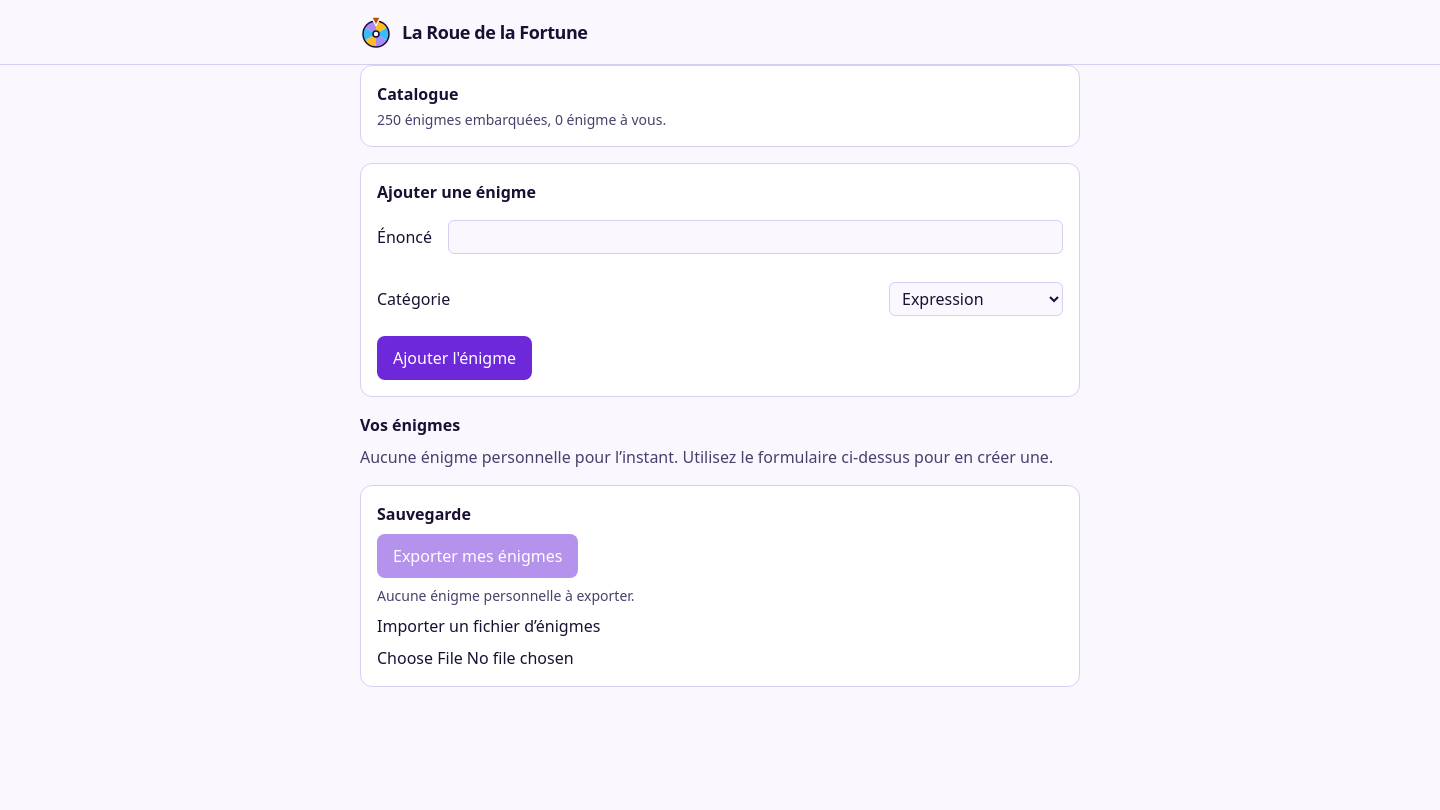
Test: PuzzleEditorRoute › supprime une énigme, confirmation comprise
The width and height of the screenshot is (1440, 810).
Type "MAISON DE CAMPAGNE" into the field labelled "Énoncé".
click(756, 237); type("MAISON DE CAMPAGNE")  # box [448,220,1063,254]
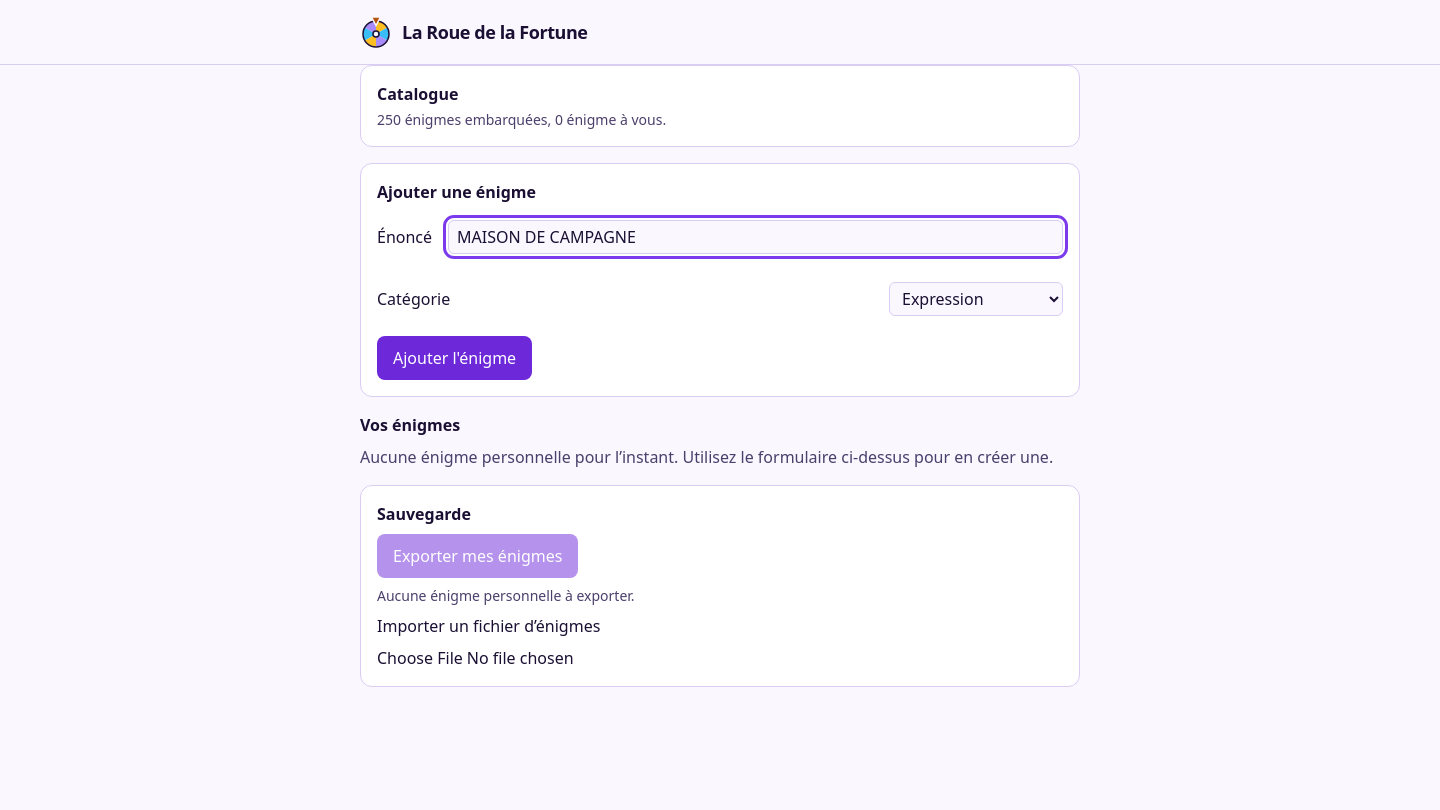
Click the button "Ajouter l'énigme".
click(455, 358)  # box [377,336,532,380]
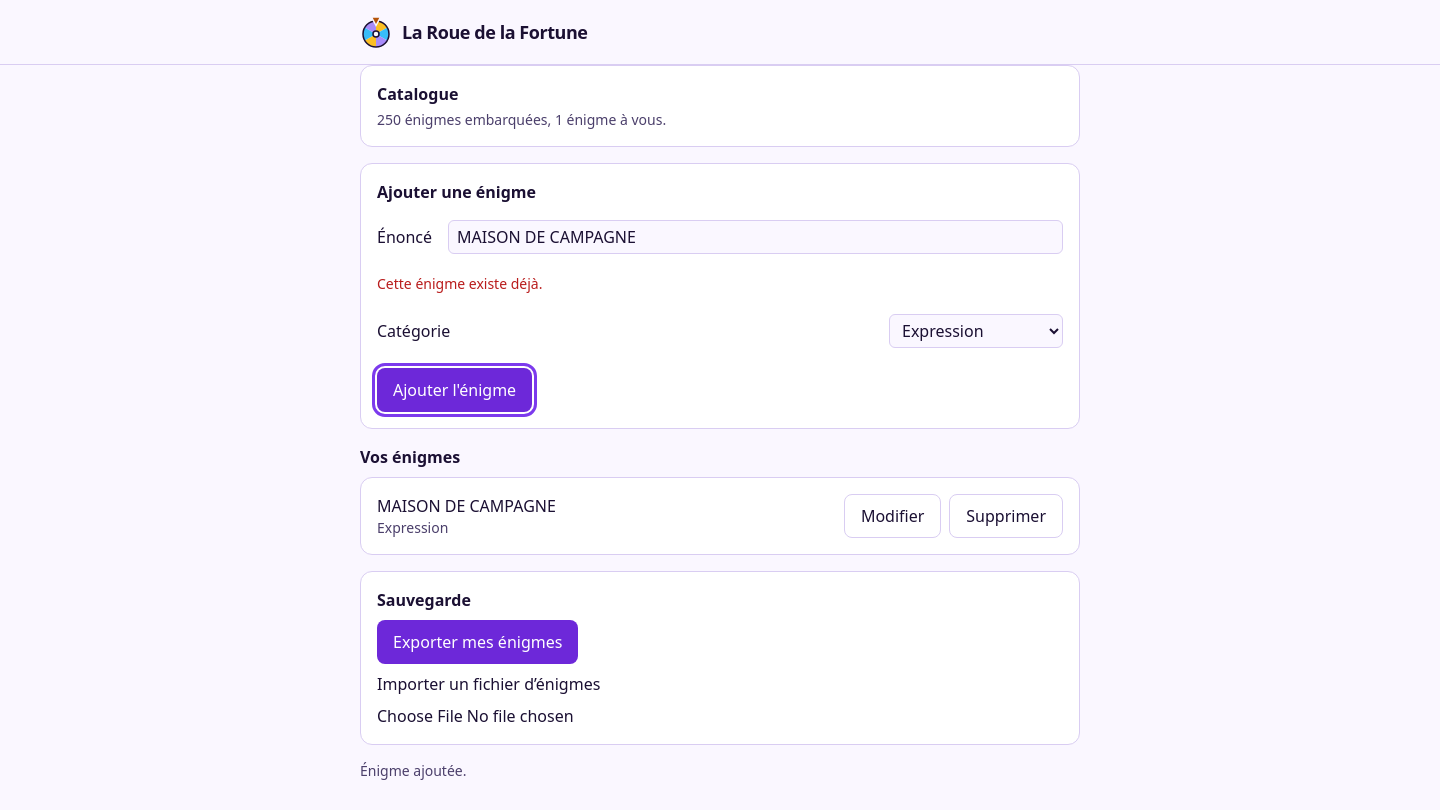
Click the button with aria-label "Supprimer MAISON DE CAMPAGNE".
click(1006, 516)  # box [949,494,1063,538]
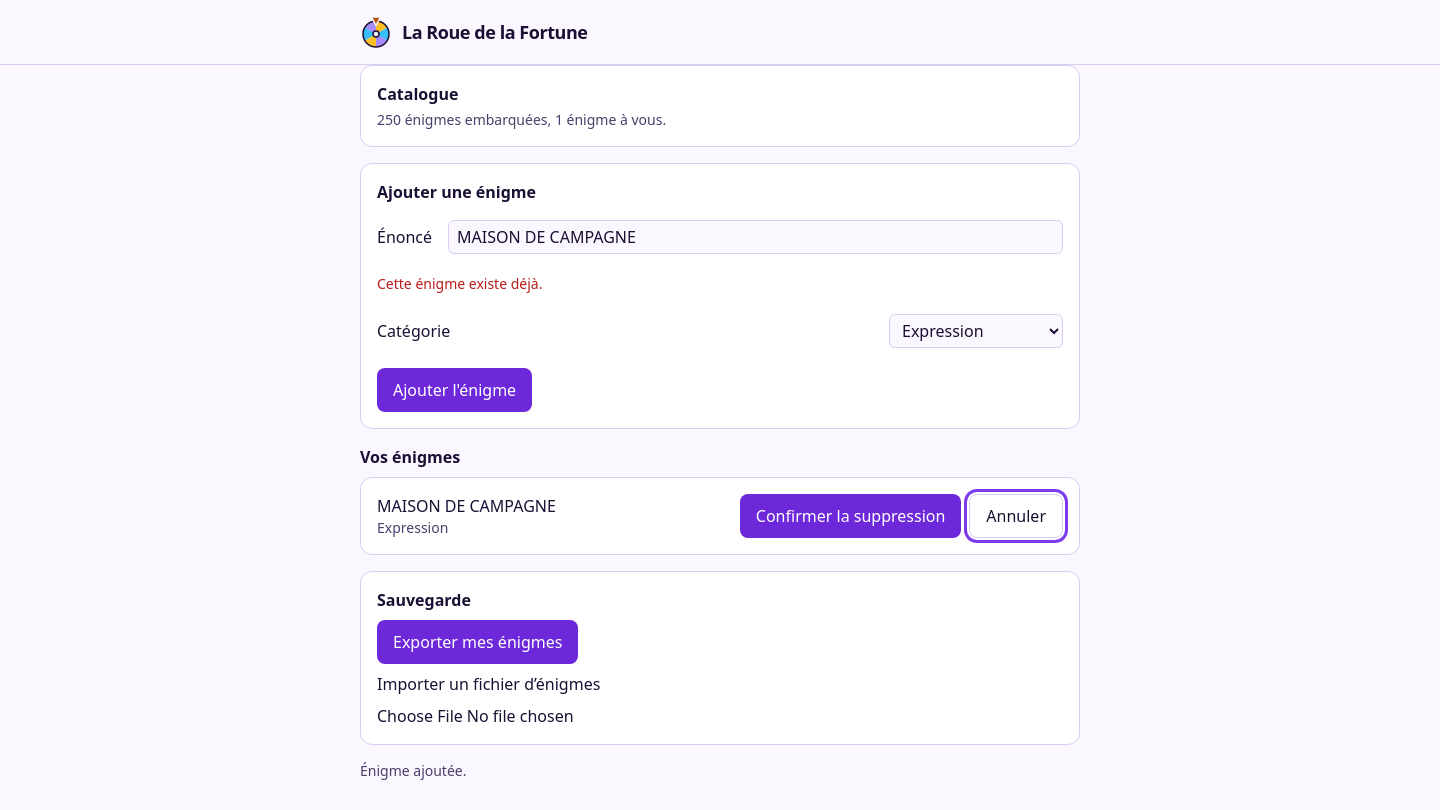
Expected: the text "MAISON DE CAMPAGNE" is shown, [377,494,556,518]
Click the button with aria-label "Confirmer la suppression de MAISON DE CAMPAGNE".
click(851, 516)  # box [740,494,961,538]
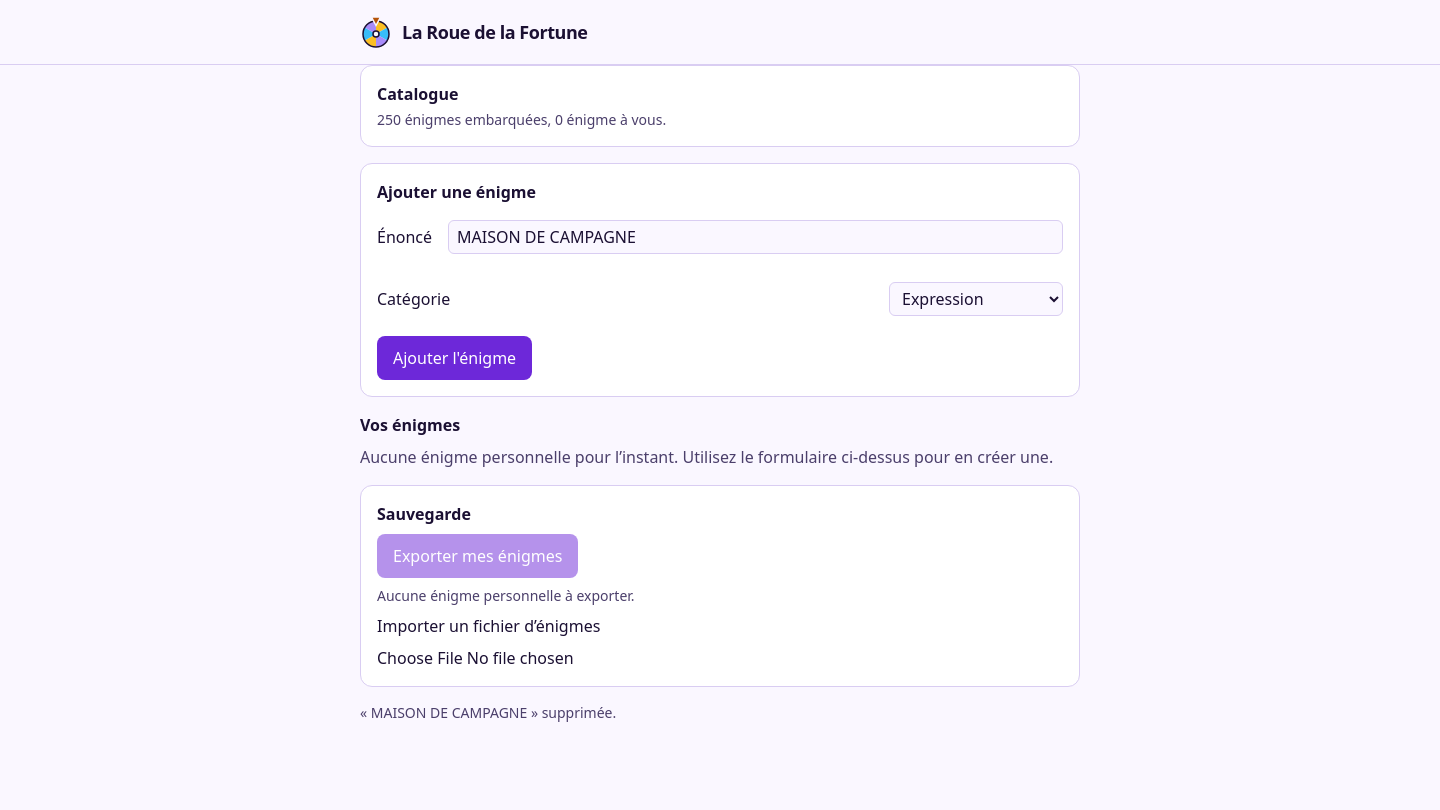
Expected: the text "« MAISON DE CAMPAGNE » supprimée." is shown, [360,703,616,722]
